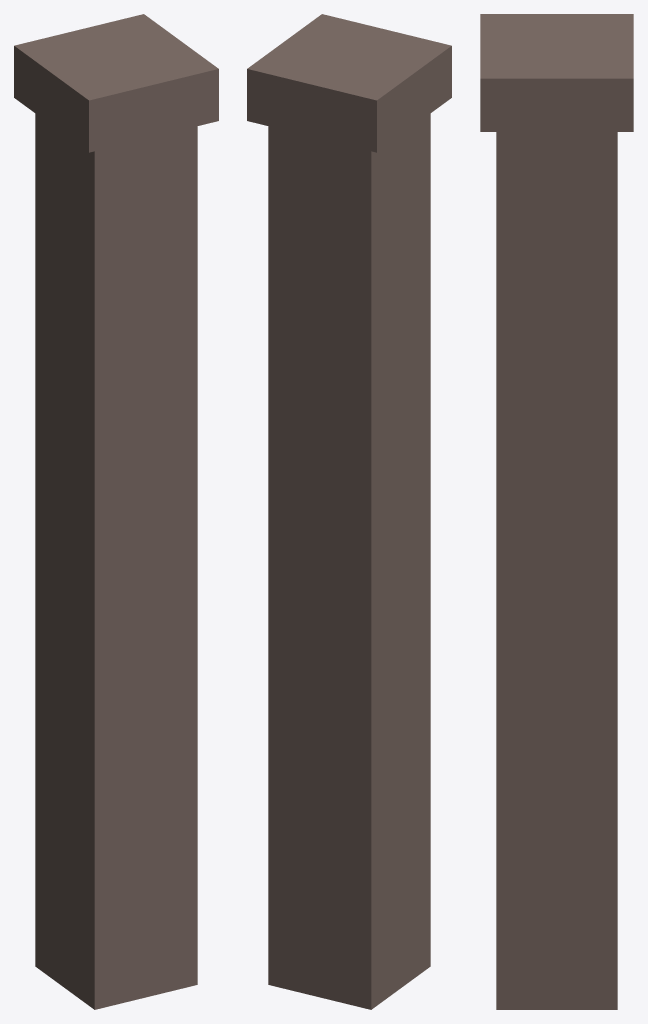
Rendered from Village_Wall_Stone_Pillar_A.fbx.
3 renders of one model, left to right at view 1: azimuth 30°, elevation 25°; view 2: azimuth 150°, elevation 25°; view 3: azimuth 270°, elevation 25°, orthographic. The views are drawn at different scales.
Visible parts, largest first — view 1: Village_Wall_2m_Stone_Pillar_A; view 2: Village_Wall_2m_Stone_Pillar_A; view 3: Village_Wall_2m_Stone_Pillar_A.
Part boxes in pixels (bbox=[...]): Village_Wall_2m_Stone_Pillar_A: bbox=[14, 14, 218, 1009]; Village_Wall_2m_Stone_Pillar_A: bbox=[247, 14, 451, 1009]; Village_Wall_2m_Stone_Pillar_A: bbox=[480, 14, 633, 1009].
Bounding box in the file's own units: 29.63 × 200 × 29.63.
